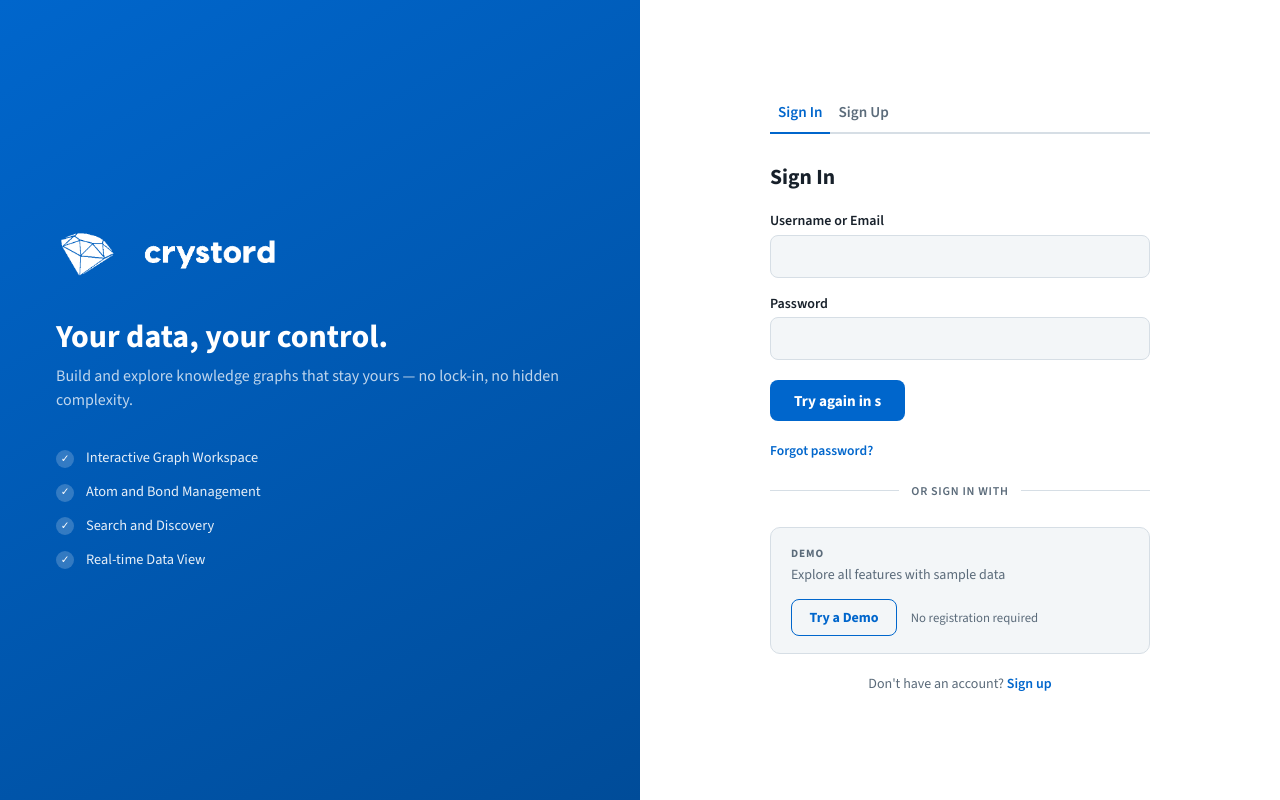
SignInPage › switches to sign-up mode when clicking the Sign Up tab
The image size is (1280, 800).
Click the tab "Sign Up".
click(864, 113)  # box [830, 93, 897, 134]
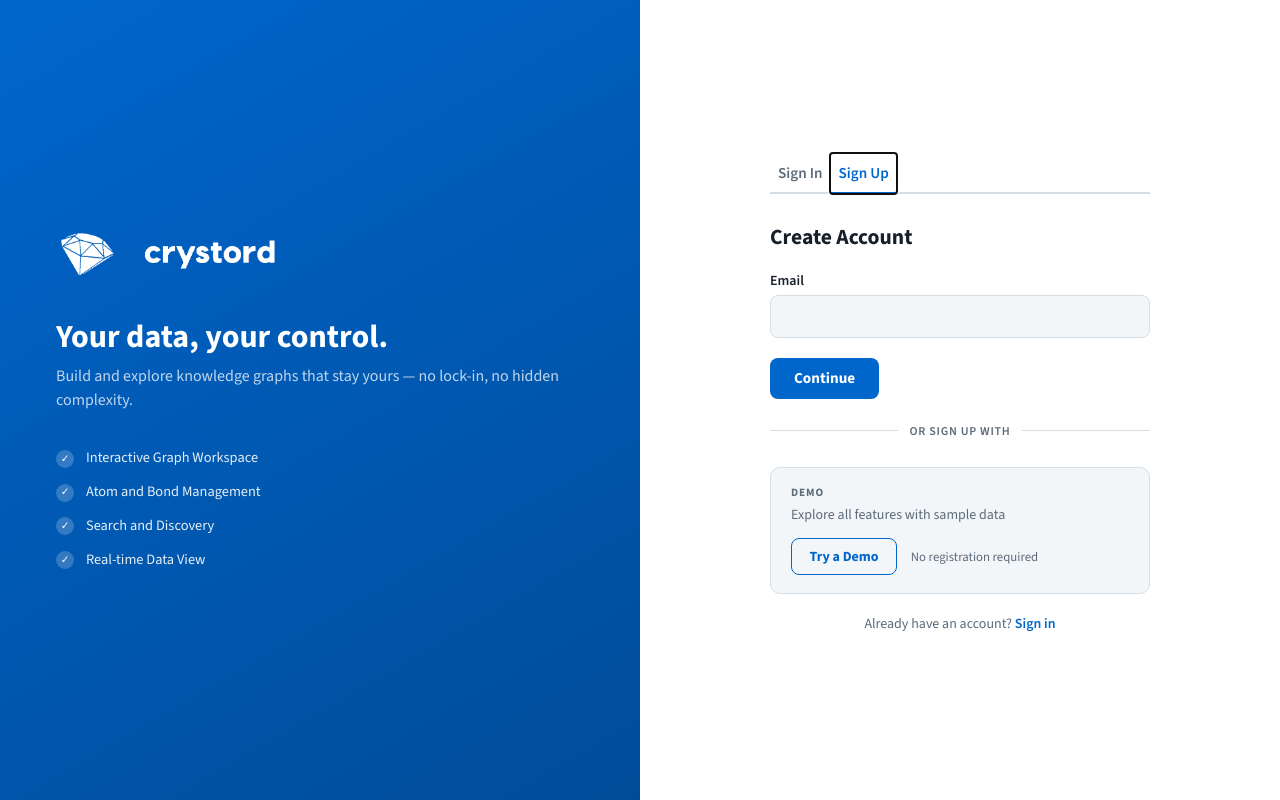
Check: the heading "Create Account" is shown, box [770, 222, 912, 251]
Check: the button "Continue" is shown, box [770, 358, 879, 399]
